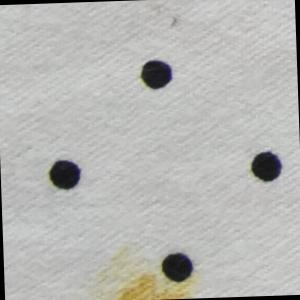Oil Stain: (111, 268, 193, 300)
